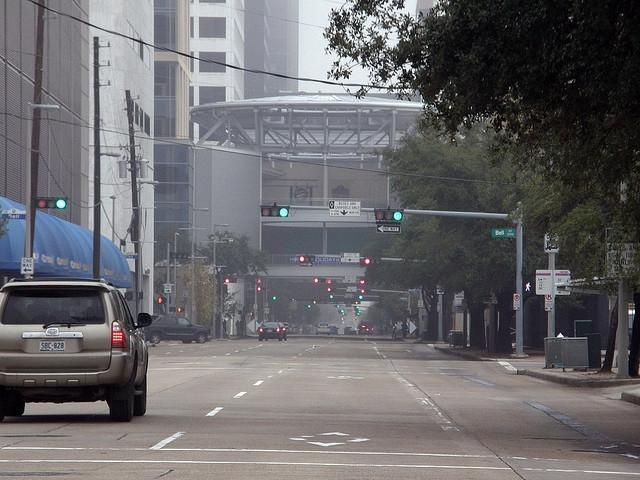car: (0, 277, 157, 423), (258, 322, 284, 342), (357, 320, 373, 336), (316, 322, 332, 336), (279, 322, 288, 342), (331, 326, 340, 335), (344, 327, 352, 334), (348, 329, 357, 335)
truck: (144, 314, 213, 344), (331, 326, 340, 334)
